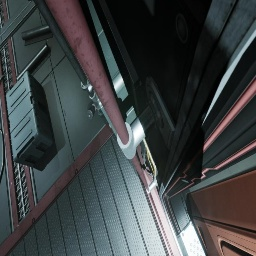EmergencyPhone ,: (141, 135, 159, 177)
